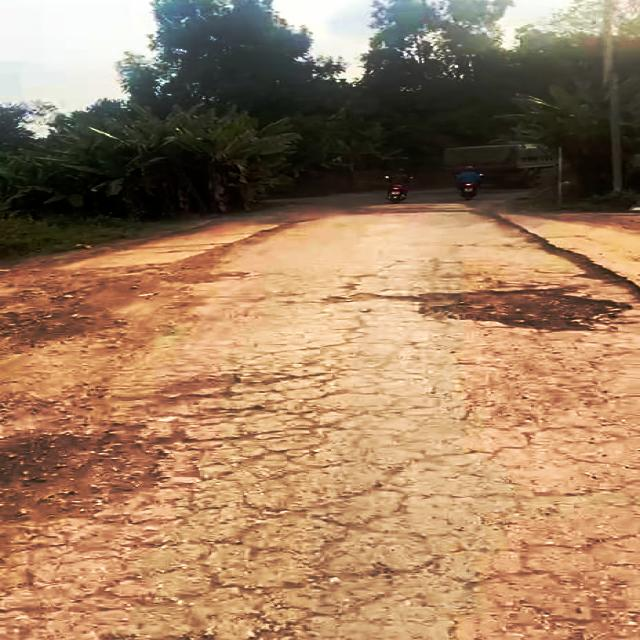pothole: (406, 288, 634, 332)
